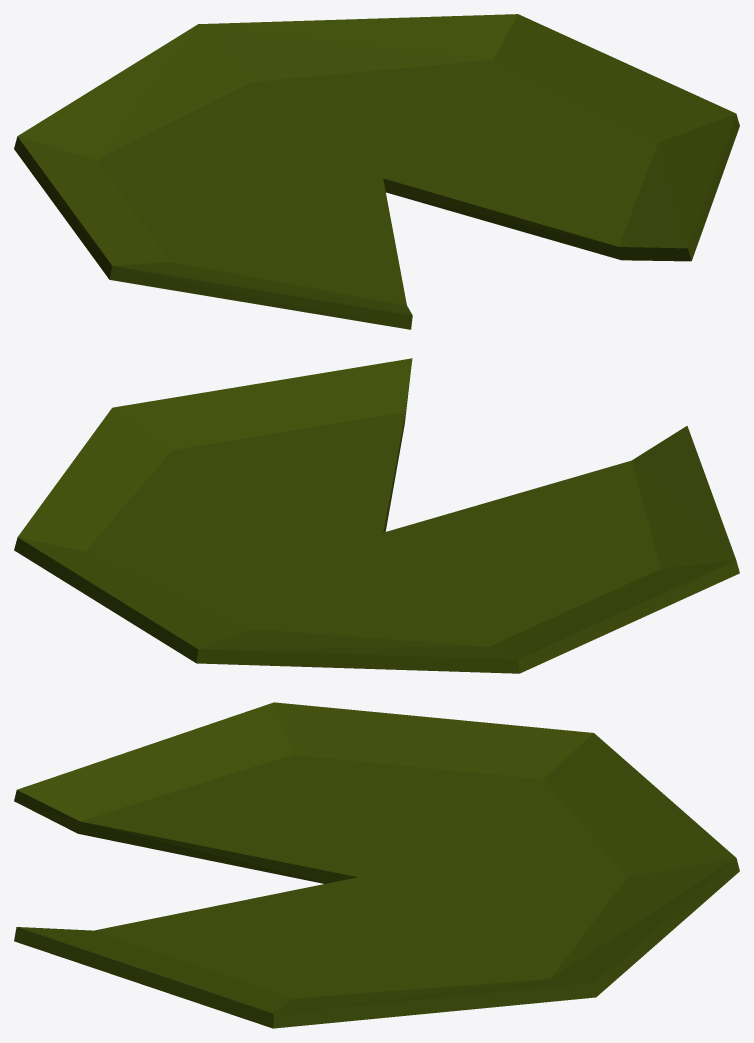
Rendered from LargeLilyPad.fbx.
3 renders of one model, top to bottom at view 1: azimuth 30°, elevation 25°; view 2: azimuth 150°, elevation 25°; view 3: azimuth 270°, elevation 25°, orthographic. The views are drawn at different scales.
Visible parts, largest first — view 1: LargeLilyPad; view 2: LargeLilyPad; view 3: LargeLilyPad.
Part boxes in pixels (x1=…): LargeLilyPad: x1=14, y1=14, x2=739, y2=329; LargeLilyPad: x1=14, y1=358, x2=739, y2=673; LargeLilyPad: x1=14, y1=702, x2=739, y2=1028.
Bounding box in the file's own units: 240 × 11.66 × 234.
